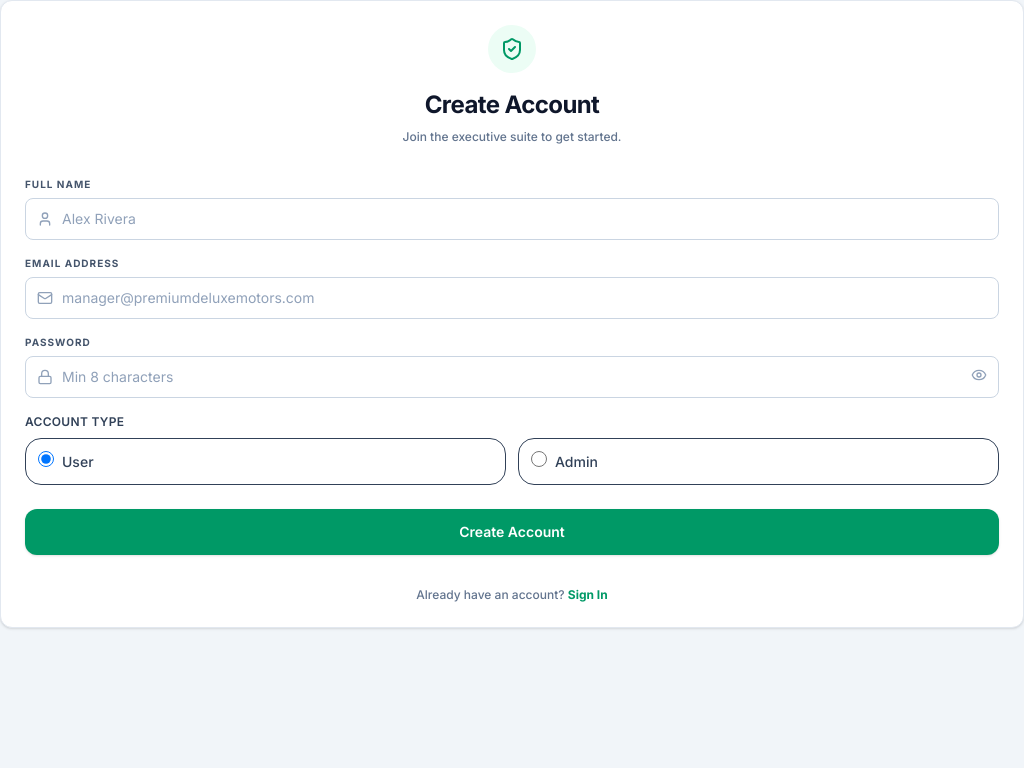
Test: RegisterPage › shows required field errors for empty submission
Click the button "Create Account" at (512, 532), box [25,509,999,555]
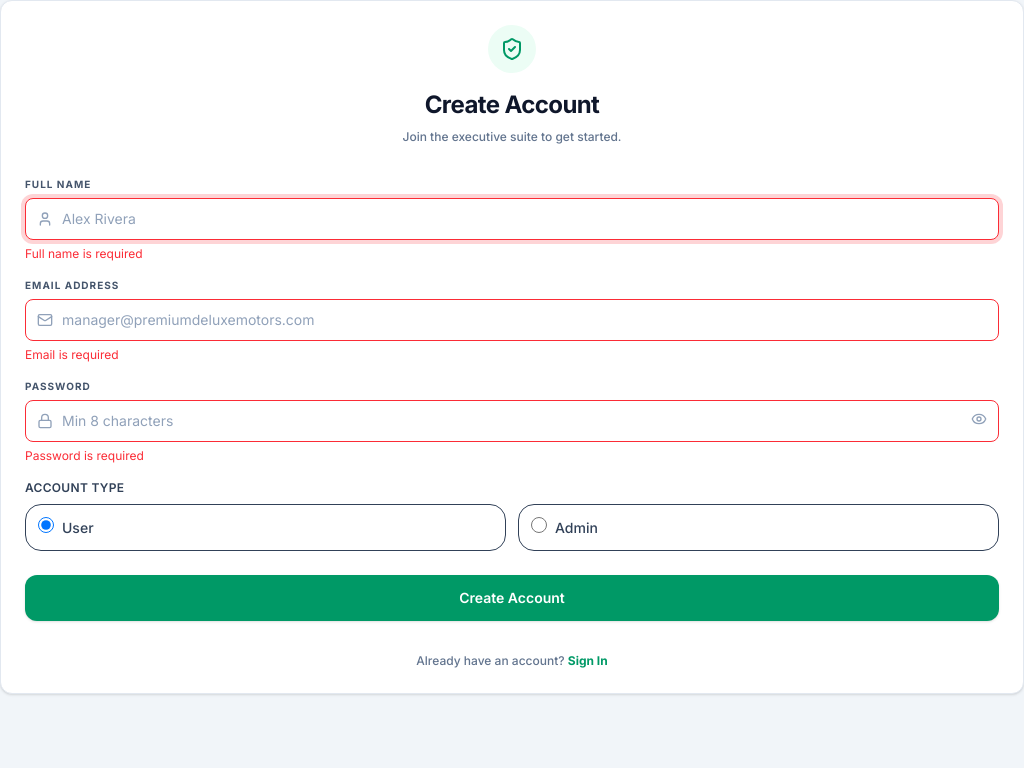
Check: the text "Full name is required" is shown, box [25,246,143,261]
Check: the text "Email is required" is shown, box [25,347,119,362]
Check: the text "Password is required" is shown, box [25,448,144,463]
